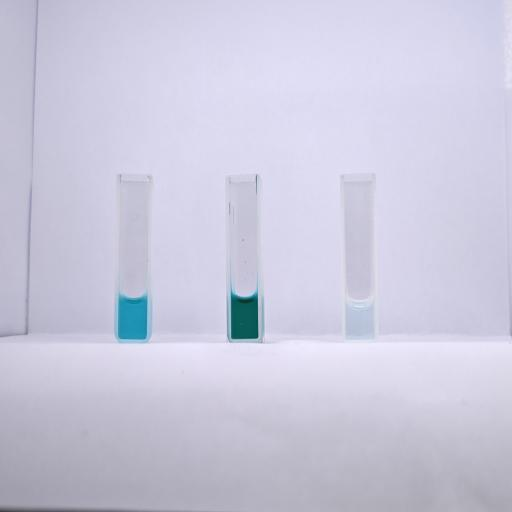cuvette: (338, 170, 381, 344), (224, 172, 267, 345), (113, 171, 154, 345)
liquid: (119, 293, 147, 339), (231, 292, 258, 339), (346, 299, 374, 339)
